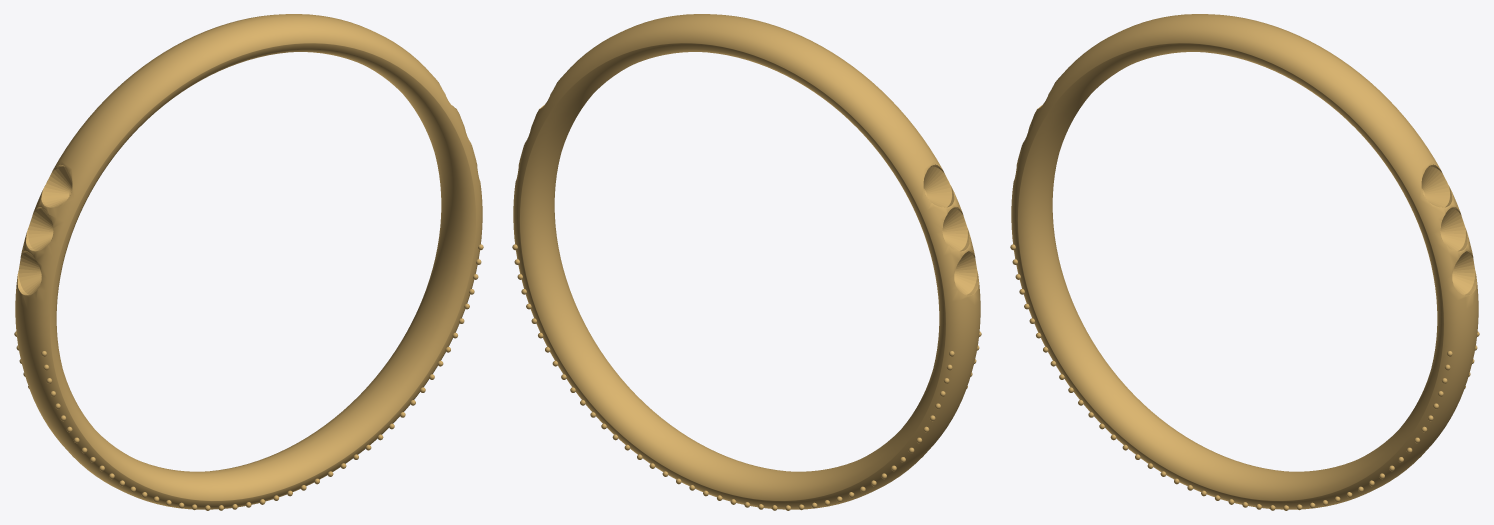
Rendered from vintage-flush-accents-wide.glb.
3 views of the same model, side by side, from view 1: azimuth 30°, elevation 25°; view 2: azimuth 150°, elevation 25°; view 3: azimuth 330°, elevation 25° (orthographic).
Visible parts, largest first — view 1: Band; view 2: Band; view 3: Band.
Boxes of the visible parts, bbox=[...] form: Band: bbox=[15, 14, 482, 509]; Band: bbox=[513, 14, 980, 509]; Band: bbox=[1011, 14, 1478, 509].
Size of the model in its own units: 19.6 by 19.6 by 2.22.
